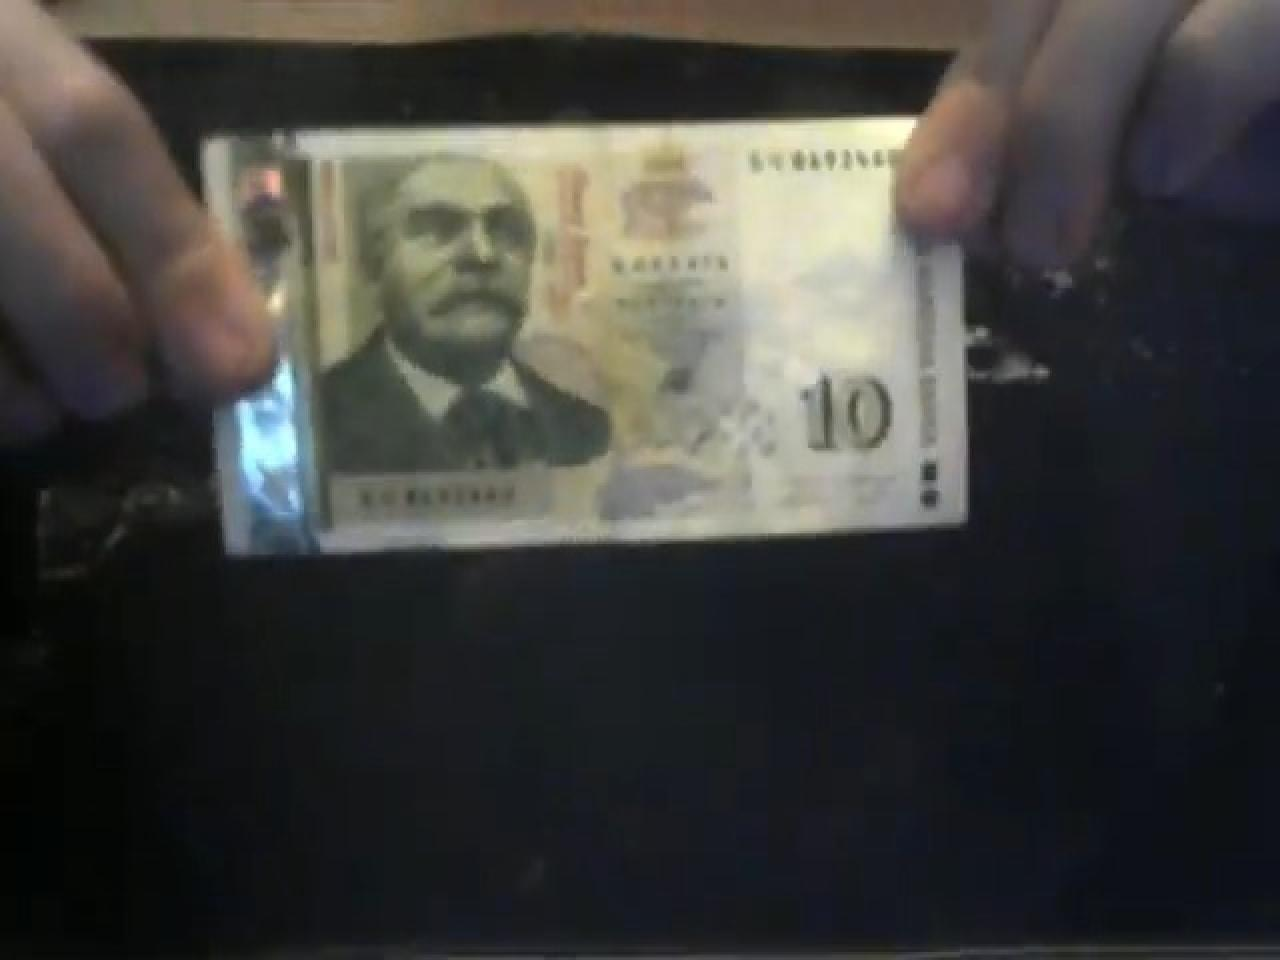10leva: (212, 117, 964, 555)
